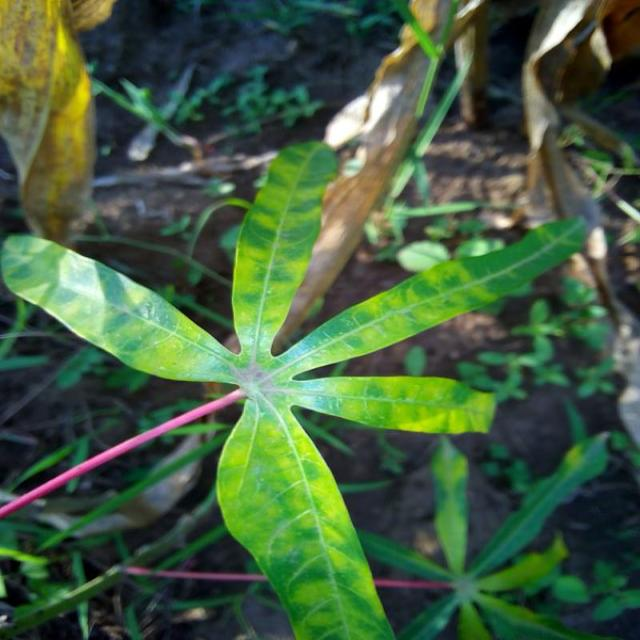cassava leaf: (2, 135, 590, 638)
